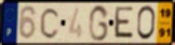4: (67, 6, 85, 41)
6: (17, 4, 39, 42)
C: (39, 6, 61, 41)
E: (113, 6, 135, 41)
G: (87, 4, 110, 43)
O: (136, 4, 157, 42)
